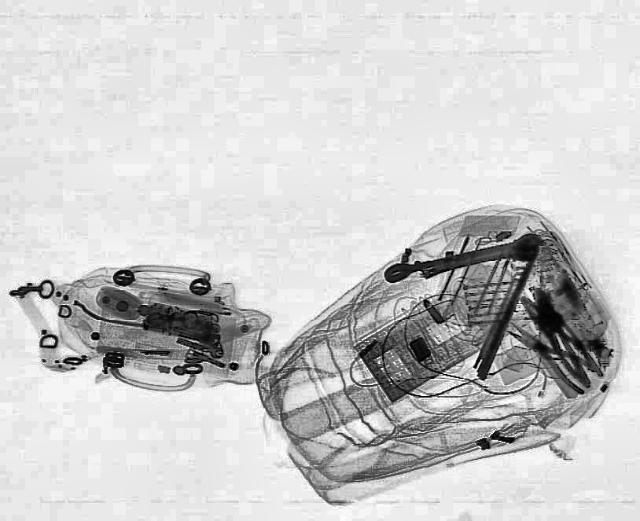Pliers: (505, 292, 605, 390), (491, 314, 607, 396)
Wrench: (380, 229, 552, 288)
